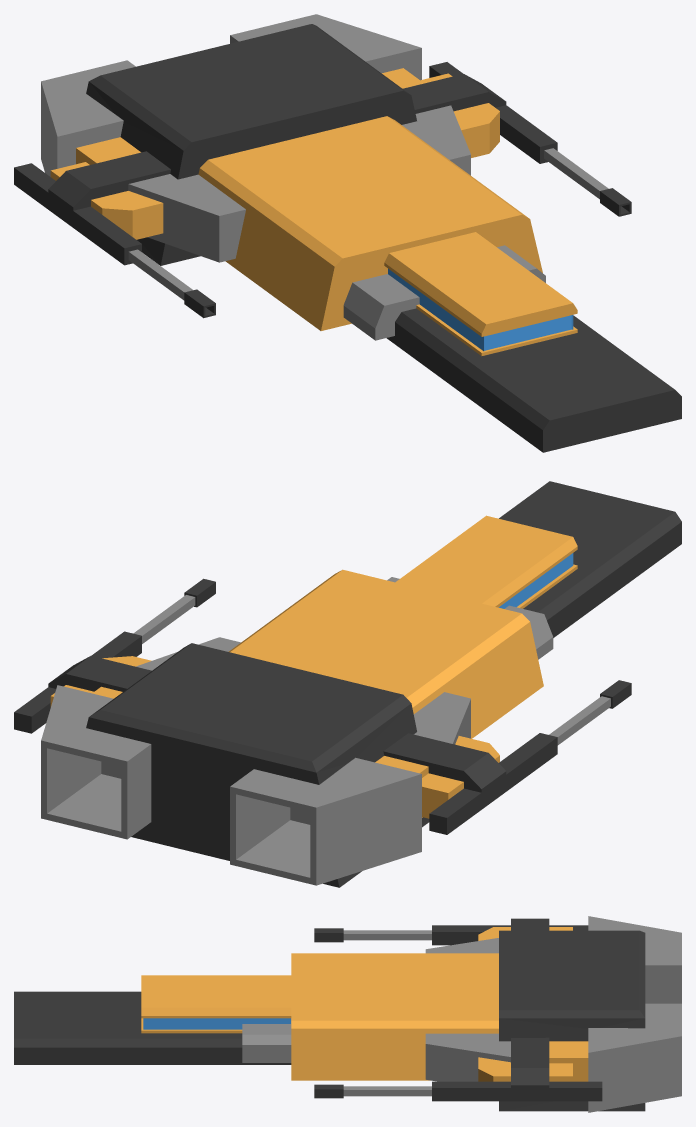
File: t2_defender.fbx
3 views of the same model, one above another, from view 1: azimuth 30°, elevation 25°; view 2: azimuth 150°, elevation 25°; view 3: azimuth 270°, elevation 25° (orthographic). The views are drawn at different scales.
Parts seen in each view (by area): view 1: Defender|Cube_L_Rocket_FrigateDefender.blend|Dupli|; view 2: Defender|Cube_L_Rocket_FrigateDefender.blend|Dupli|; view 3: Defender|Cube_L_Rocket_FrigateDefender.blend|Dupli|.
Part boxes in pixels (x1=…): Defender|Cube_L_Rocket_FrigateDefender.blend|Dupli|: x1=14, y1=14, x2=681, y2=452; Defender|Cube_L_Rocket_FrigateDefender.blend|Dupli|: x1=14, y1=481, x2=681, y2=887; Defender|Cube_L_Rocket_FrigateDefender.blend|Dupli|: x1=14, y1=916, x2=681, y2=1112.
Size of the model in its own units: 623 by 160 by 1080.
